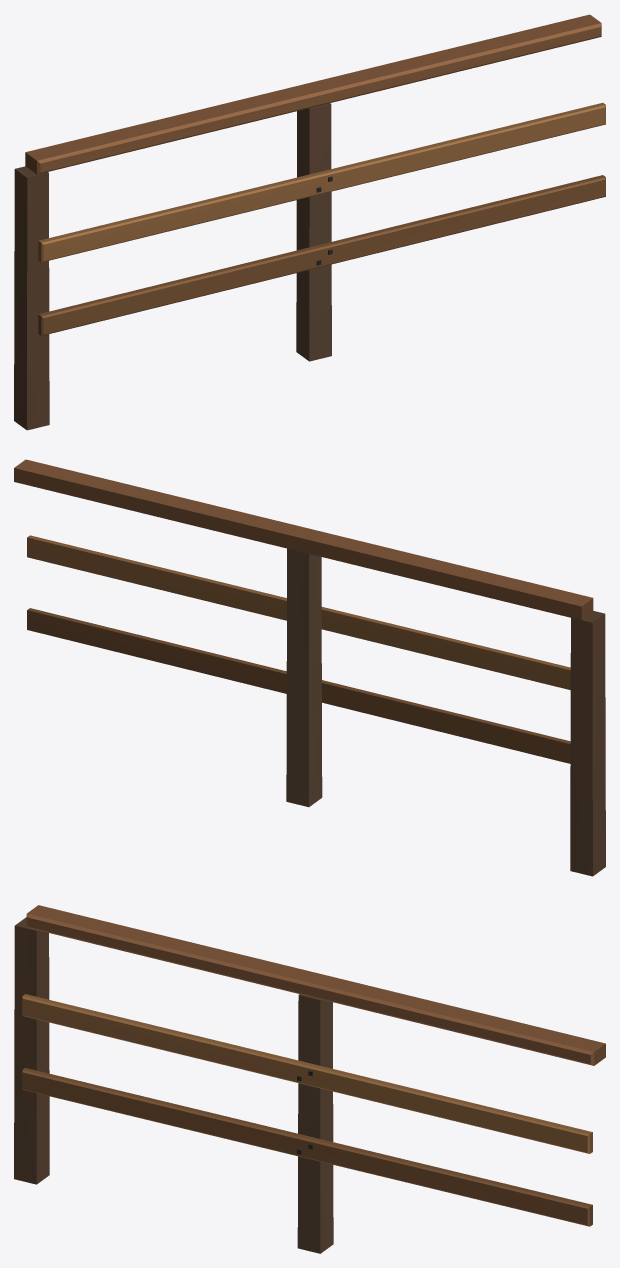
File: wooden_railing_01.glb
The picture shows the model from 3 angles, top to bottom: view 1: azimuth 30°, elevation 25°; view 2: azimuth 150°, elevation 25°; view 3: azimuth 330°, elevation 25°; orthographic projection.
Visible parts, largest first — view 1: wooden_railing_01_body, railing_post_start; view 2: wooden_railing_01_body, railing_post_start; view 3: wooden_railing_01_body, railing_post_start.
Part boxes in pixels (x1,y1,x2,y2): wooden_railing_01_body: (25,14,605,361); railing_post_start: (14,166,49,430); wooden_railing_01_body: (14,459,593,807); railing_post_start: (570,611,605,876); wooden_railing_01_body: (22,905,605,1253); railing_post_start: (14,917,49,1184).
Bounding box in the file's own units: 3.06 × 1.35 × 0.161.
